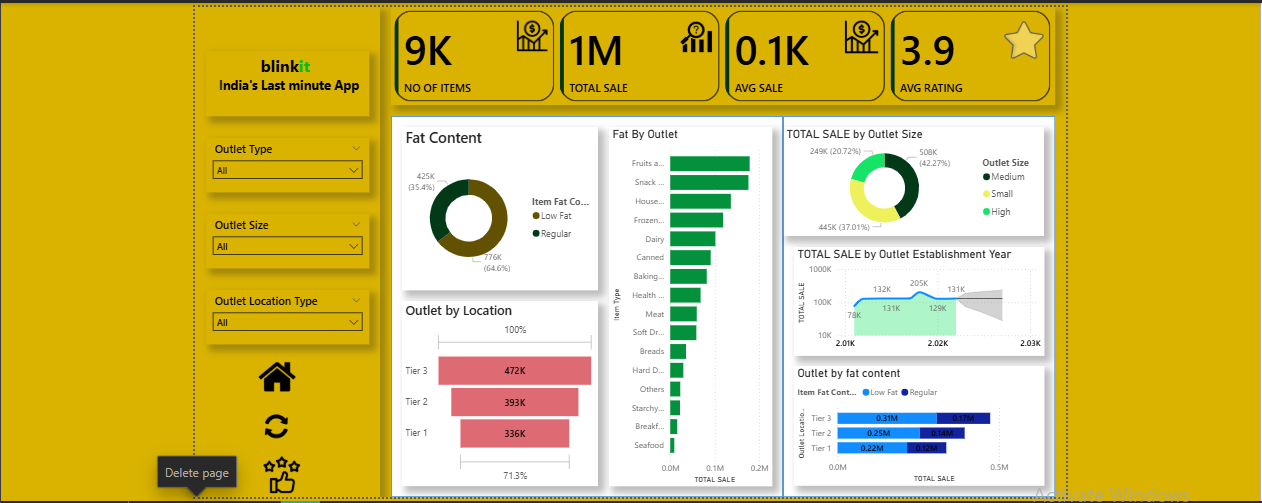

This screenshot's page, from the dashboard's own definition file:
{"tool":"powerbi","page":{"name":"Page 1","canvas":[1280,720],"ordinal":0},"visuals":[{"type":"textbox","box":[16,16,240,144],"z":1000},{"type":"shape","box":[0,0,272,720],"z":1001},{"type":"textbox","box":[16,64,240,96],"z":1002},{"type":"cardVisual","fields":{"Data":["BlinkIT Grocery Data.NO OF ITEMS","BlinkIT Grocery Data.TOTAL SALE","BlinkIT Grocery Data.AVG SALE","BlinkIT Grocery Data.AVG RATING"]},"box":[288,0,976,144],"z":1003},{"type":"slicer","fields":{"Values":["BlinkIT Grocery Data.Outlet Type"]},"box":[16,192,240,80],"z":1004},{"type":"slicer","fields":{"Values":["BlinkIT Grocery Data.Outlet Size"]},"box":[16,304,240,80],"z":1005},{"type":"slicer","fields":{"Values":["BlinkIT Grocery Data.Outlet Location Type"]},"box":[16,416,240,80],"z":1007},{"type":"clusteredBarChart","title":"Fat By Outlet","fields":{"Category":["BlinkIT Grocery Data.Item Type"],"Y":["BlinkIT Grocery Data.TOTAL SALE"]},"box":[304,176,240,400],"z":1008},{"type":"shape","box":[288,160,576,560],"z":1009},{"type":"donutChart","title":"Fat Content","fields":{"Category":["BlinkIT Grocery Data.Item Fat Content"],"Y":["BlinkIT Grocery Data.TOTAL SALE"]},"box":[304,176,288,240],"z":1010},{"type":"funnel","title":"Outlet by Location","fields":{"Category":["BlinkIT Grocery Data.Outlet Location Type"],"Y":["BlinkIT Grocery Data.TOTAL SALE"]},"box":[304,432,288,272],"z":1011},{"type":"clusteredBarChart","title":"Fat By Outlet","fields":{"Category":["BlinkIT Grocery Data.Item Type"],"Y":["BlinkIT Grocery Data.TOTAL SALE"]},"box":[608,176,240,528],"z":1012},{"type":"shape","box":[864,160,400,560],"z":1013},{"type":"donutChart","fields":{"Category":["BlinkIT Grocery Data.Outlet Size"],"Y":["BlinkIT Grocery Data.TOTAL SALE"]},"box":[864,176,384,160],"z":1014},{"type":"lineChart","fields":{"Category":["BlinkIT Grocery Data.Outlet Establishment Year"],"Y":["BlinkIT Grocery Data.TOTAL SALE"]},"box":[880,352,368,160],"z":1015},{"type":"barChart","title":"Outlet by fat content","fields":{"Category":["BlinkIT Grocery Data.Outlet Location Type"],"Series":["BlinkIT Grocery Data.Item Fat Content"],"Y":["BlinkIT Grocery Data.TOTAL SALE"]},"box":[880,528,368,176],"z":1016},{"type":"image","box":[64,512,112,64],"z":1017},{"type":"image","box":[96,592,48,48],"z":1018},{"type":"image","box":[96,656,64,64],"z":1019}]}

Visuals, with their boxes in screenshot pixels (x1, y1, x2, y2):
textbox: pyautogui.locateOnScreen(195, 11, 360, 110)
shape: pyautogui.locateOnScreen(184, 0, 371, 496)
textbox: pyautogui.locateOnScreen(195, 44, 360, 110)
cardVisual - BlinkIT Grocery Data.NO OF ITEMS x BlinkIT Grocery Data.TOTAL SALE: pyautogui.locateOnScreen(382, 0, 1055, 99)
slicer - BlinkIT Grocery Data.Outlet Type: pyautogui.locateOnScreen(195, 132, 360, 187)
slicer - BlinkIT Grocery Data.Outlet Size: pyautogui.locateOnScreen(195, 209, 360, 264)
slicer - BlinkIT Grocery Data.Outlet Location Type: pyautogui.locateOnScreen(195, 287, 360, 342)
"Fat By Outlet" clusteredBarChart: pyautogui.locateOnScreen(393, 121, 559, 397)
shape: pyautogui.locateOnScreen(382, 110, 779, 496)
"Fat Content" donutChart: pyautogui.locateOnScreen(393, 121, 592, 287)
"Outlet by Location" funnel: pyautogui.locateOnScreen(393, 298, 592, 485)
"Fat By Outlet" clusteredBarChart: pyautogui.locateOnScreen(603, 121, 768, 485)
shape: pyautogui.locateOnScreen(779, 110, 1055, 496)
donutChart - BlinkIT Grocery Data.Outlet Size x BlinkIT Grocery Data.TOTAL SALE: pyautogui.locateOnScreen(779, 121, 1044, 231)
lineChart - BlinkIT Grocery Data.Outlet Establishment Year x BlinkIT Grocery Data.TOTAL SALE: pyautogui.locateOnScreen(790, 242, 1044, 353)
"Outlet by fat content" barChart: pyautogui.locateOnScreen(790, 364, 1044, 485)
image: pyautogui.locateOnScreen(228, 353, 305, 397)
image: pyautogui.locateOnScreen(250, 408, 283, 441)
image: pyautogui.locateOnScreen(250, 452, 294, 496)
